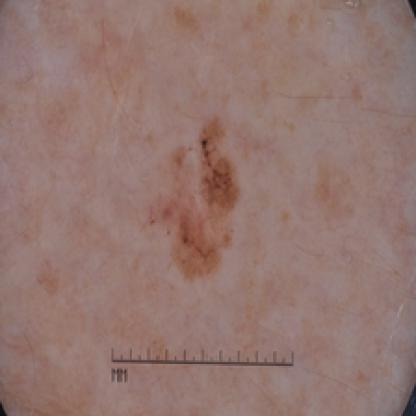malignant: (149, 86, 273, 296)
